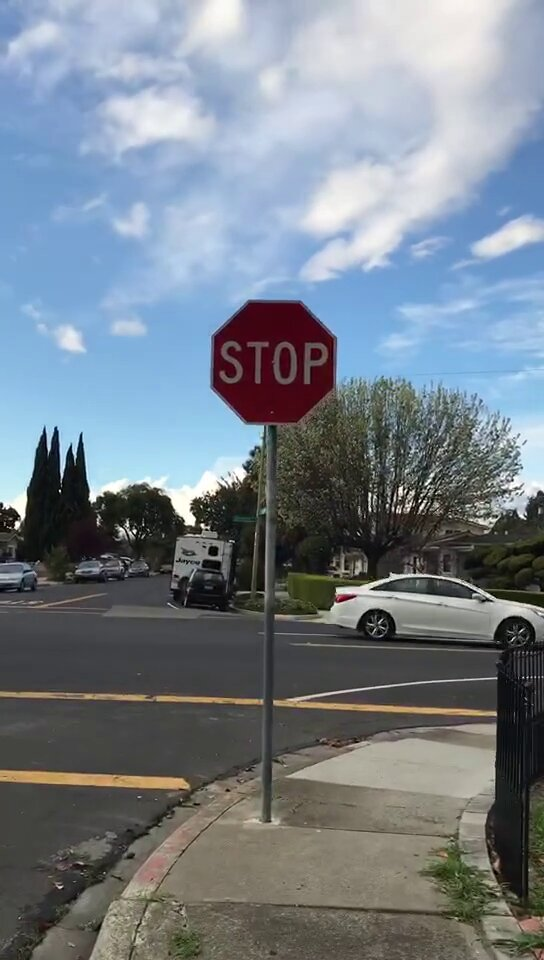stop_sign: (213, 301, 337, 426)
